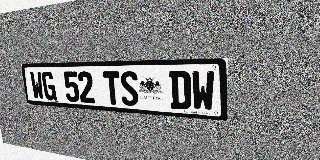2: (77, 71, 95, 103)
5: (63, 71, 80, 102)
D: (169, 71, 191, 110)
G: (41, 71, 57, 101)
S: (119, 71, 139, 106)
T: (103, 71, 122, 105)
W: (191, 71, 215, 112), (29, 72, 45, 100)
